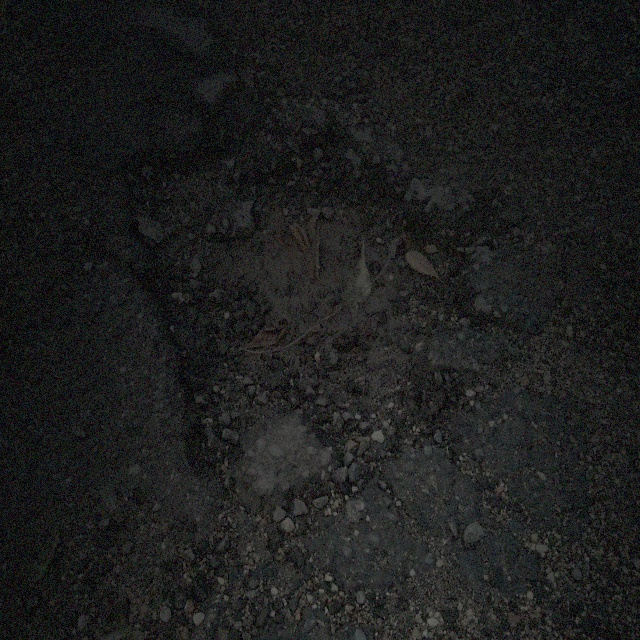pothole: (120, 114, 487, 512)
